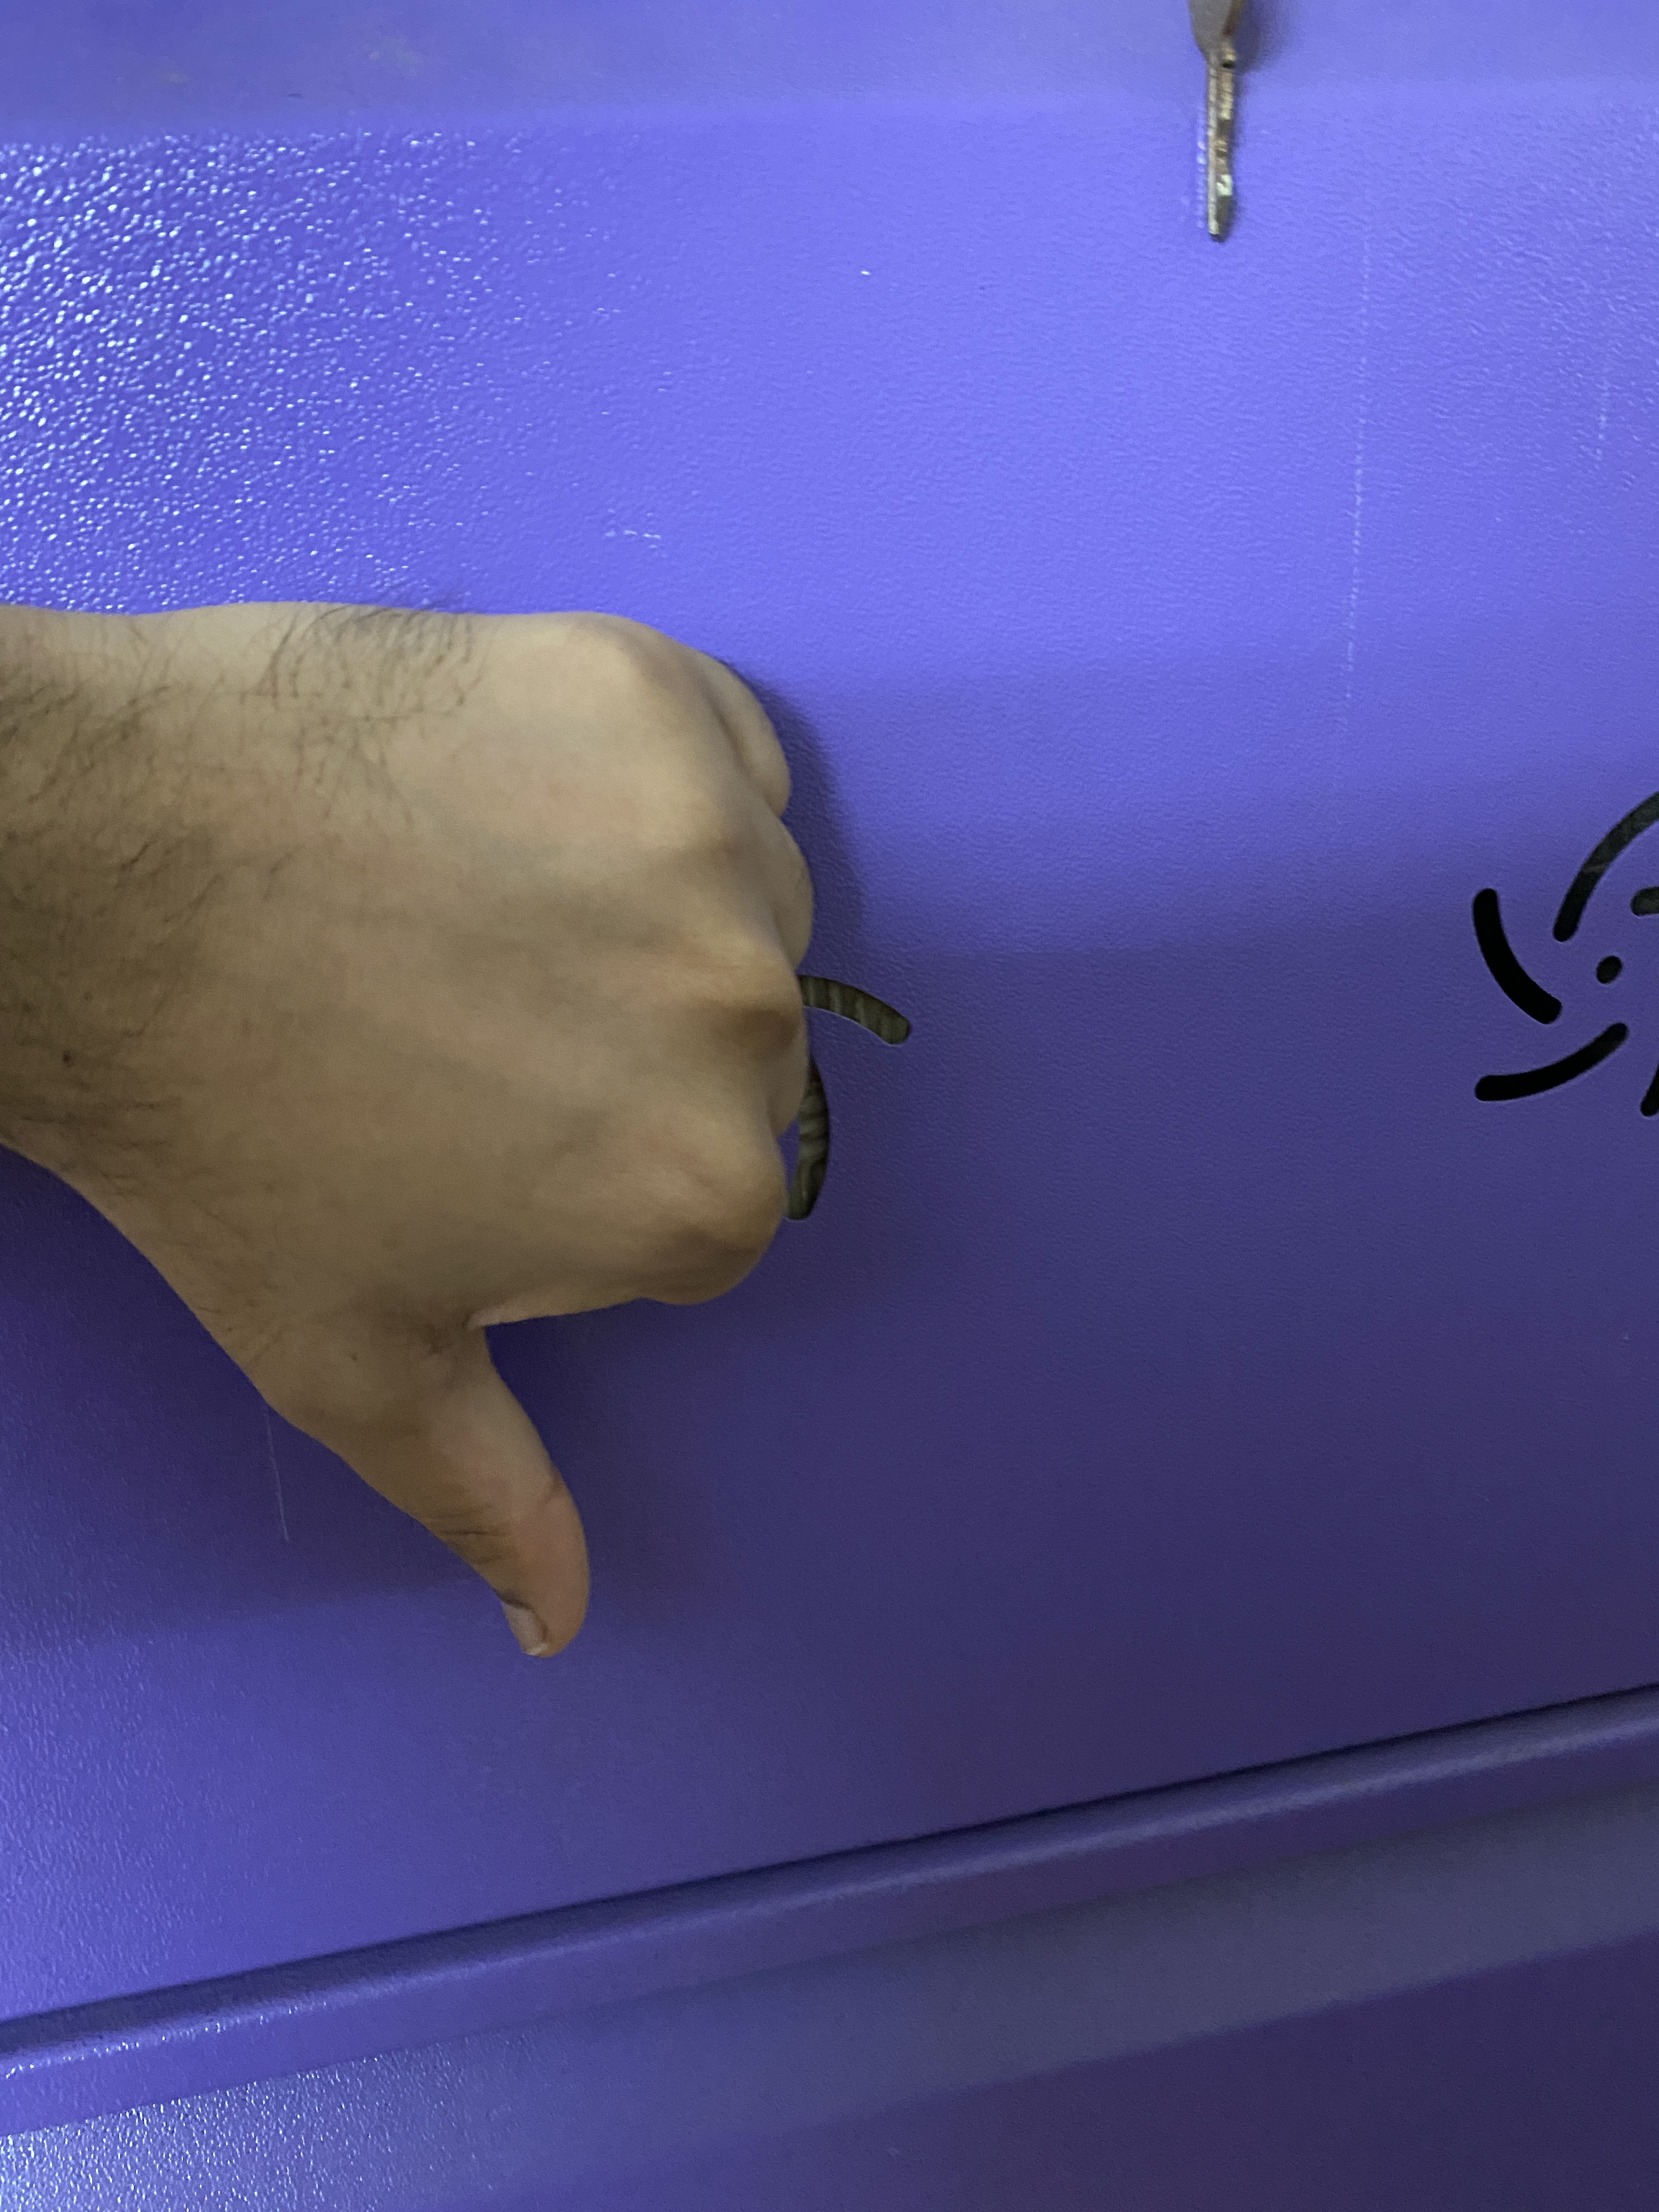down: (2, 408, 1019, 1735)
